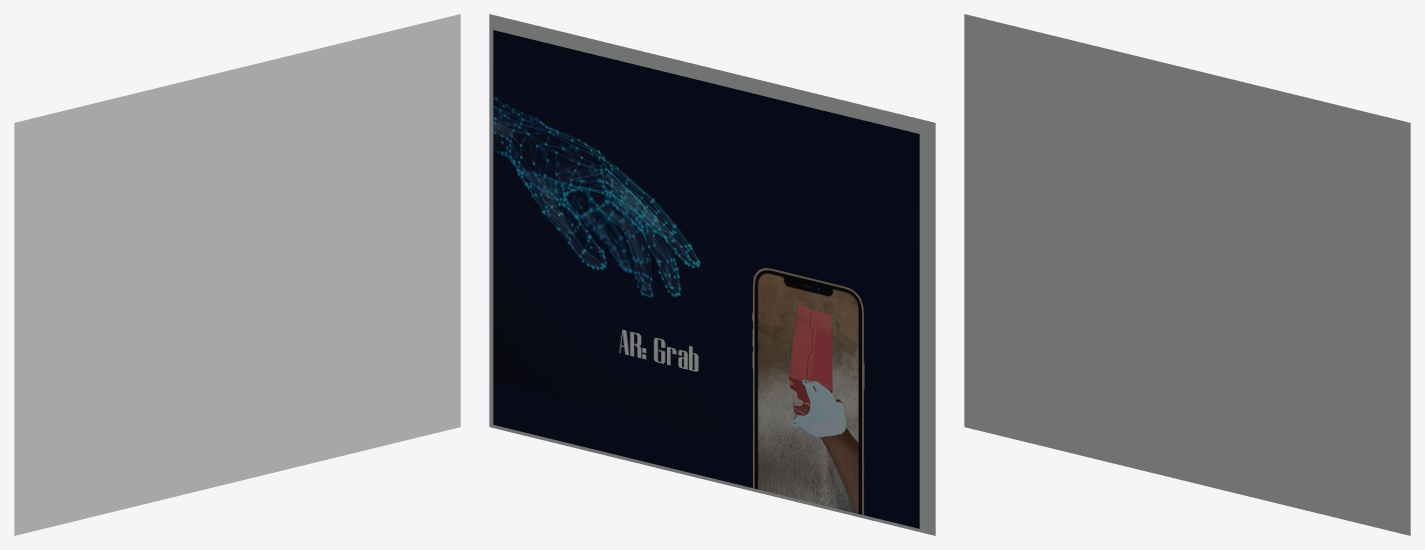
The model's file is project8_4_26.glb.
3 renders of one model, left to right at view 1: azimuth 30°, elevation 25°; view 2: azimuth 150°, elevation 25°; view 3: azimuth 330°, elevation 25°, orthographic.
Visible parts, largest first — view 1: Project1.021; view 2: Project1.007, Project1.021; view 3: Project1.021.
Part boxes in pixels (left/top/right/bottom): Project1.021: left=14, top=14, right=460, bottom=535; Project1.007: left=493, top=30, right=919, bottom=528; Project1.021: left=489, top=14, right=935, bottom=535; Project1.021: left=964, top=14, right=1410, bottom=535.
Size of the model in its own units: 2.02 by 1.79 by 0.0475.
2 materials, 1 textured.
